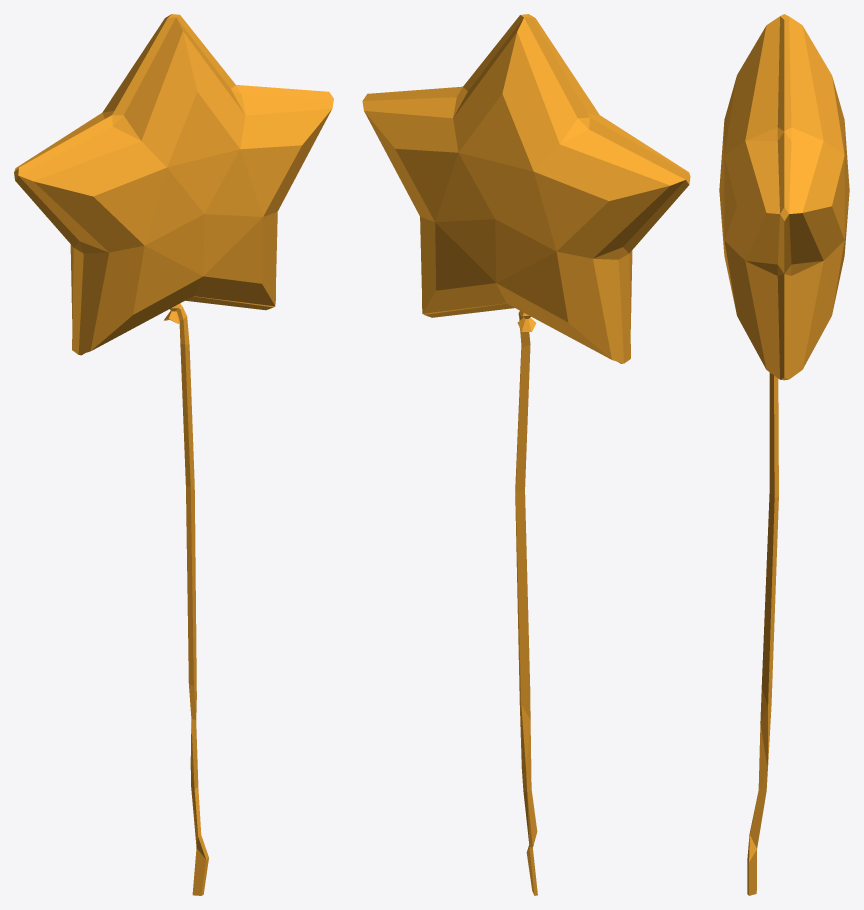
Rendered from SM_Balloon_Star_Silver_Ribbon.fbx.
3 renders of one model, left to right at view 1: azimuth 30°, elevation 25°; view 2: azimuth 150°, elevation 25°; view 3: azimuth 270°, elevation 25°, orthographic. The views are drawn at different scales.
Visible parts, largest first — view 1: balloon-star-silver-ribbon; view 2: balloon-star-silver-ribbon; view 3: balloon-star-silver-ribbon.
Boxes of the visible parts, <box> form: balloon-star-silver-ribbon: <box>14,14,333,895</box>; balloon-star-silver-ribbon: <box>362,14,690,895</box>; balloon-star-silver-ribbon: <box>719,14,849,895</box>.
Bounding box in the file's own units: 0.5476 × 1.43 × 0.1934.
